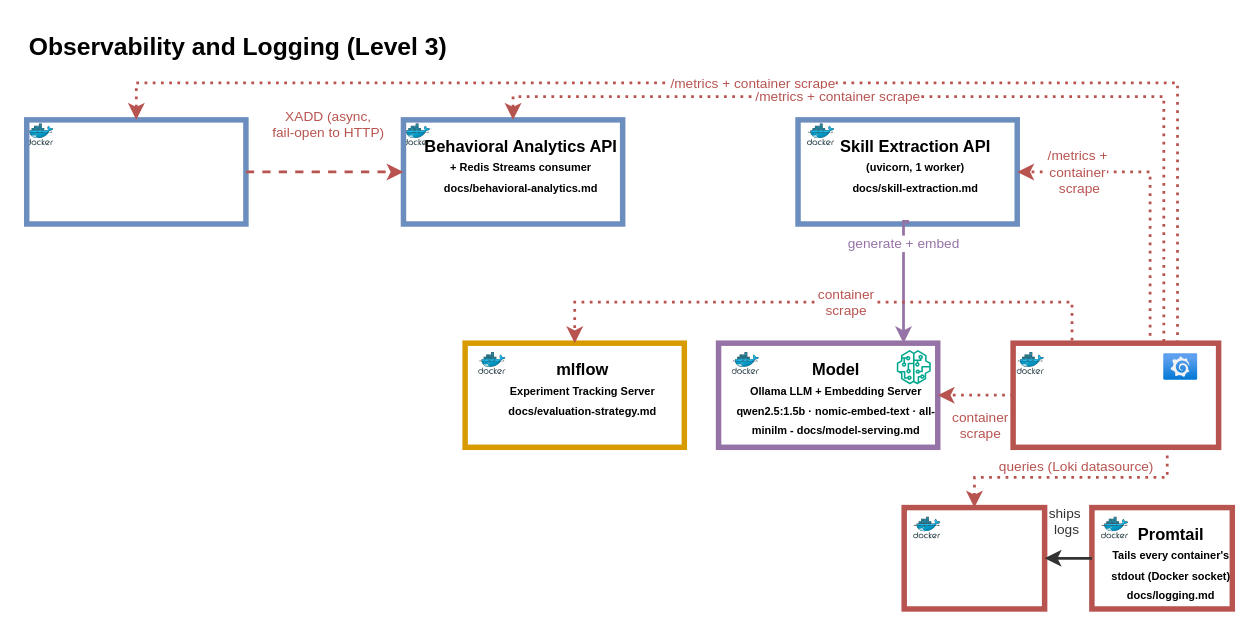
The diagram is 1258 pixels wide and 634 high, and some of its shapes have lost their labels. Each missing label, with the box of its shape:
Grafana Prometheus + cAdvisor + Grafana docs/observability.md: (1010, 340, 1221, 449)
Loki Log aggregation (filesystem storage) docs/logging.md: (901, 504, 1047, 611)
Matching Engine API (uvicorn, 4 workers) docs/matching-engine.md: (23, 116, 248, 226)
